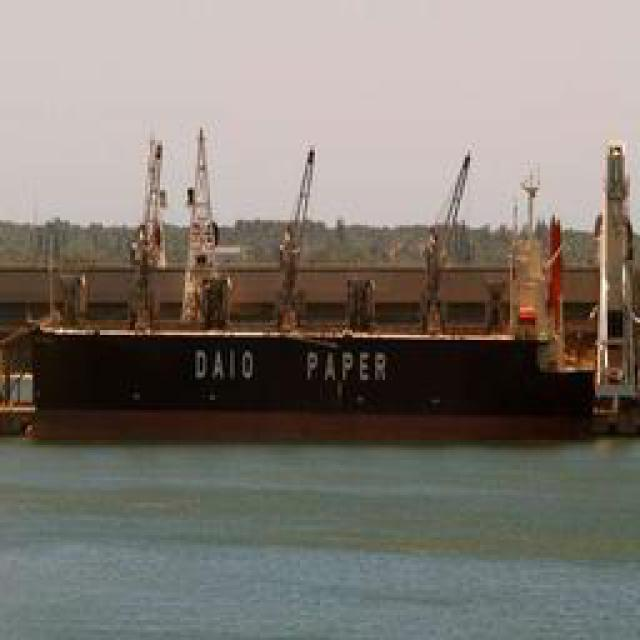Ship: (16, 120, 616, 423)
